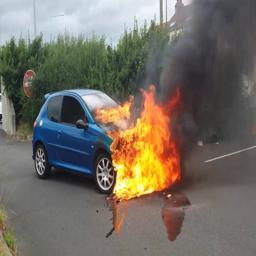fire: (107, 83, 185, 199), (95, 94, 134, 123)
